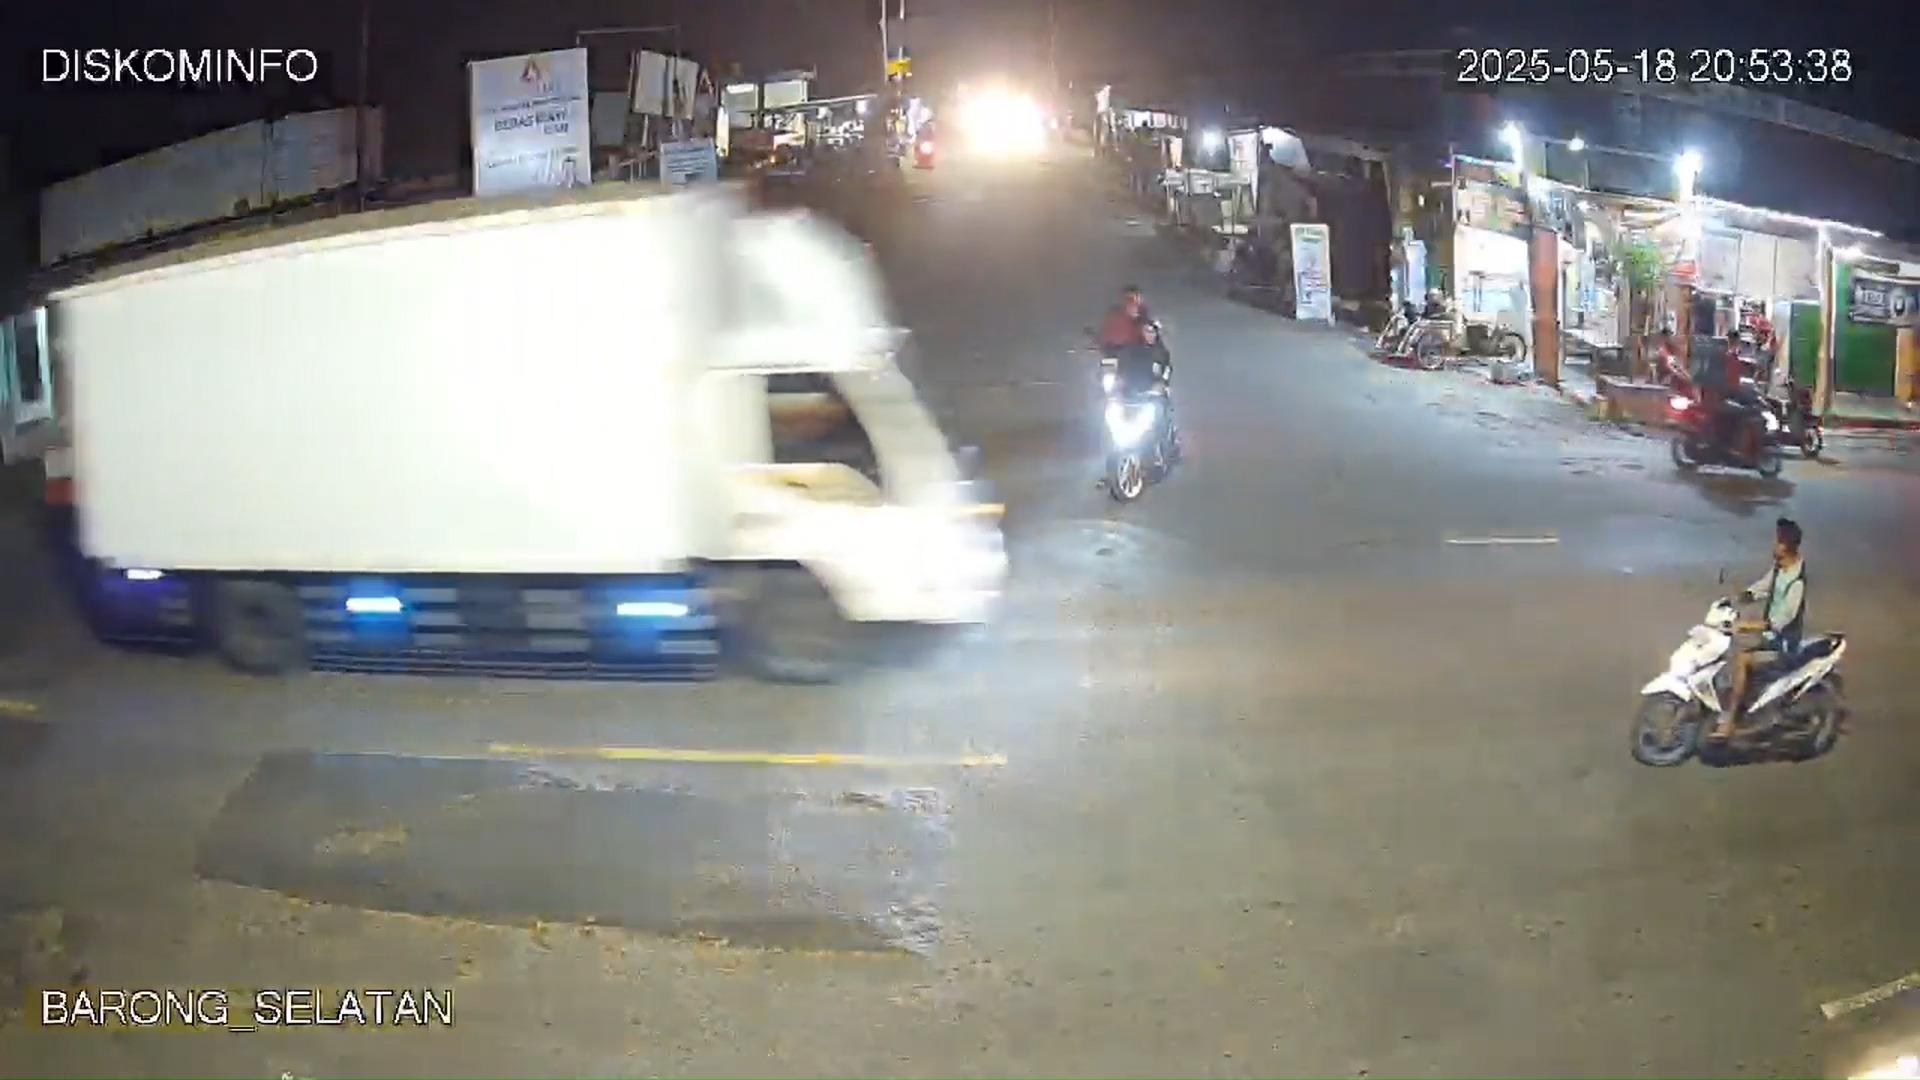Motor: (1659, 513, 1834, 757)
Truck: (29, 165, 1011, 695)
